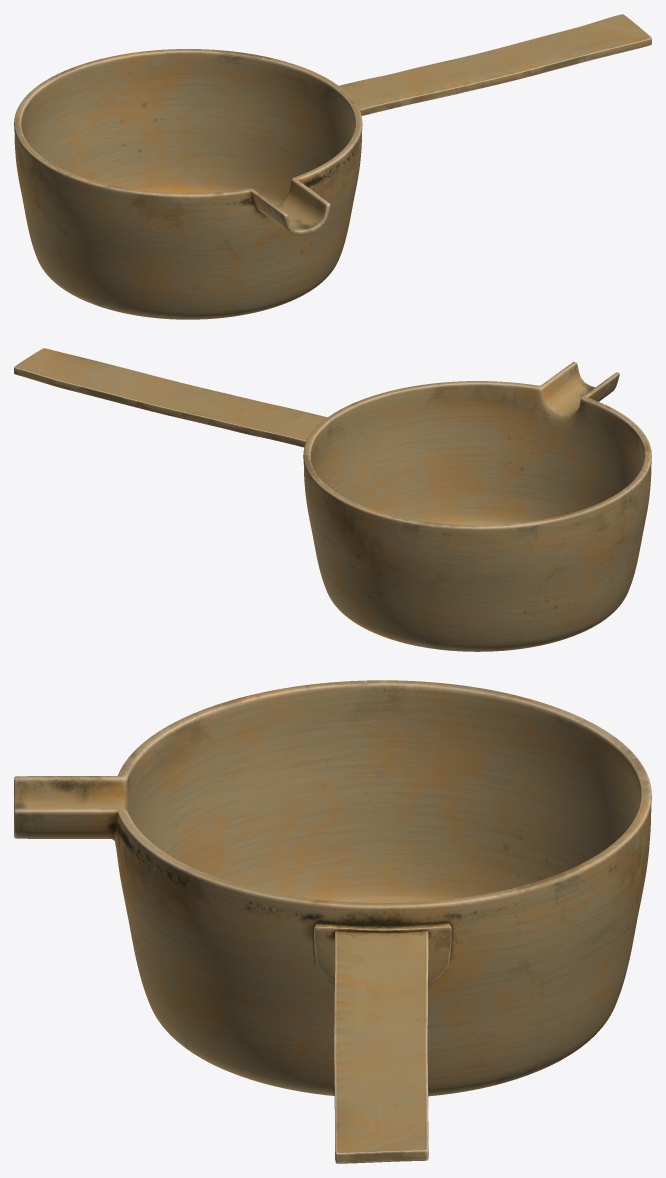
File: SM_Pot115.fbx
The picture shows the model from 3 angles, top to bottom: view 1: azimuth 30°, elevation 25°; view 2: azimuth 150°, elevation 25°; view 3: azimuth 270°, elevation 25°; orthographic projection. The views are drawn at different scales.
Visible parts, largest first — view 1: SM_Pot115; view 2: SM_Pot115; view 3: SM_Pot115.
Part boxes in pixels (<box>): SM_Pot115: <box>14,14,651,319</box>; SM_Pot115: <box>14,348,651,651</box>; SM_Pot115: <box>14,680,651,1163</box>.
Bounding box in the file's own units: 27.33 × 6.16 × 16.28.
Materials: 1 (1 with a texture image).
